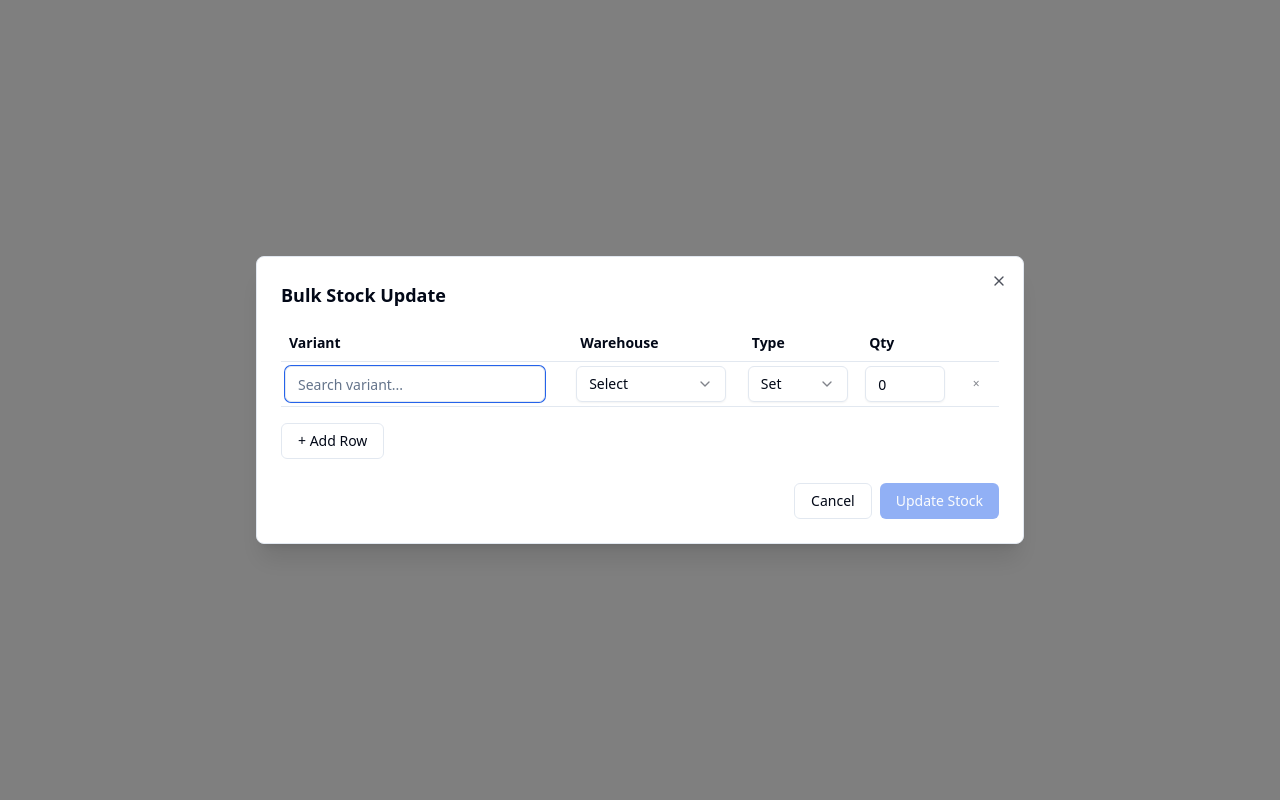
Test case: pressing Enter selects the first matching variant
Type "Blue" into the field with placeholder "Search variant...". click: (415, 384)
box: [285,366,545,402]
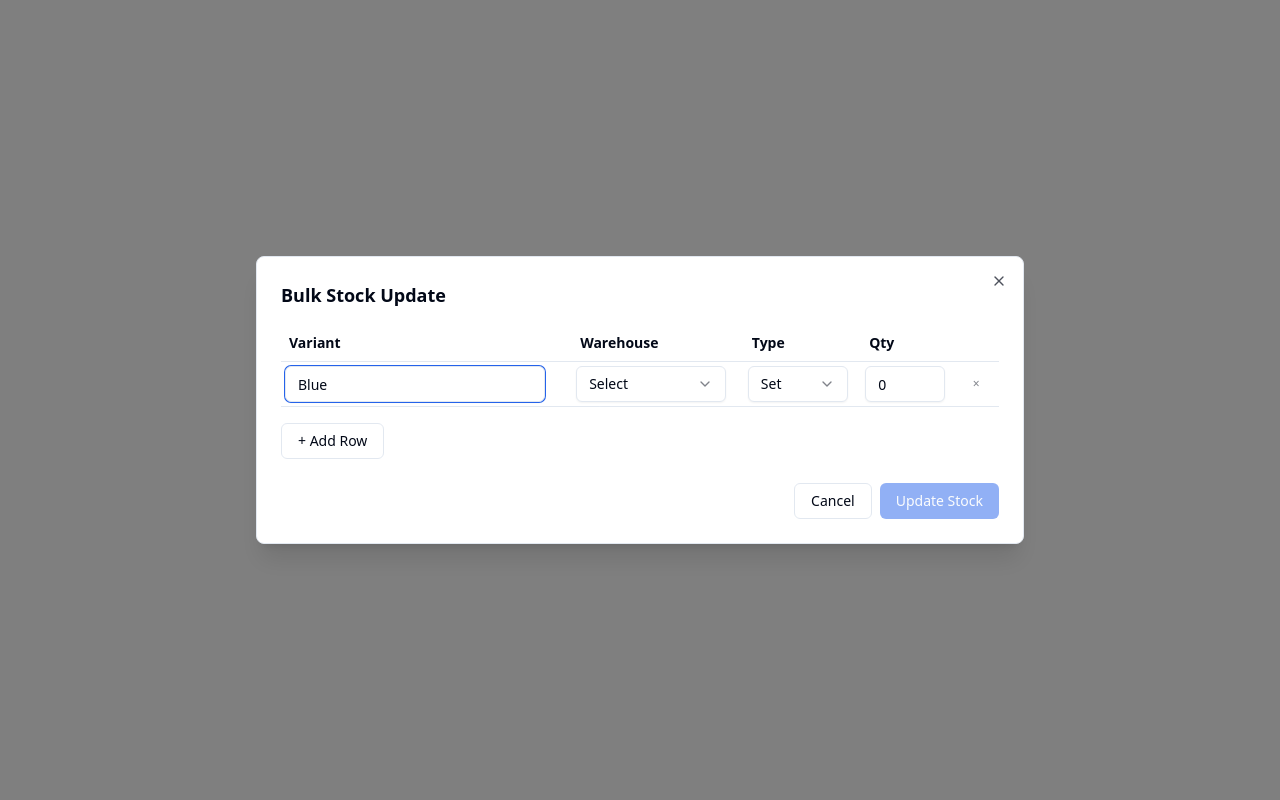
Press Enter
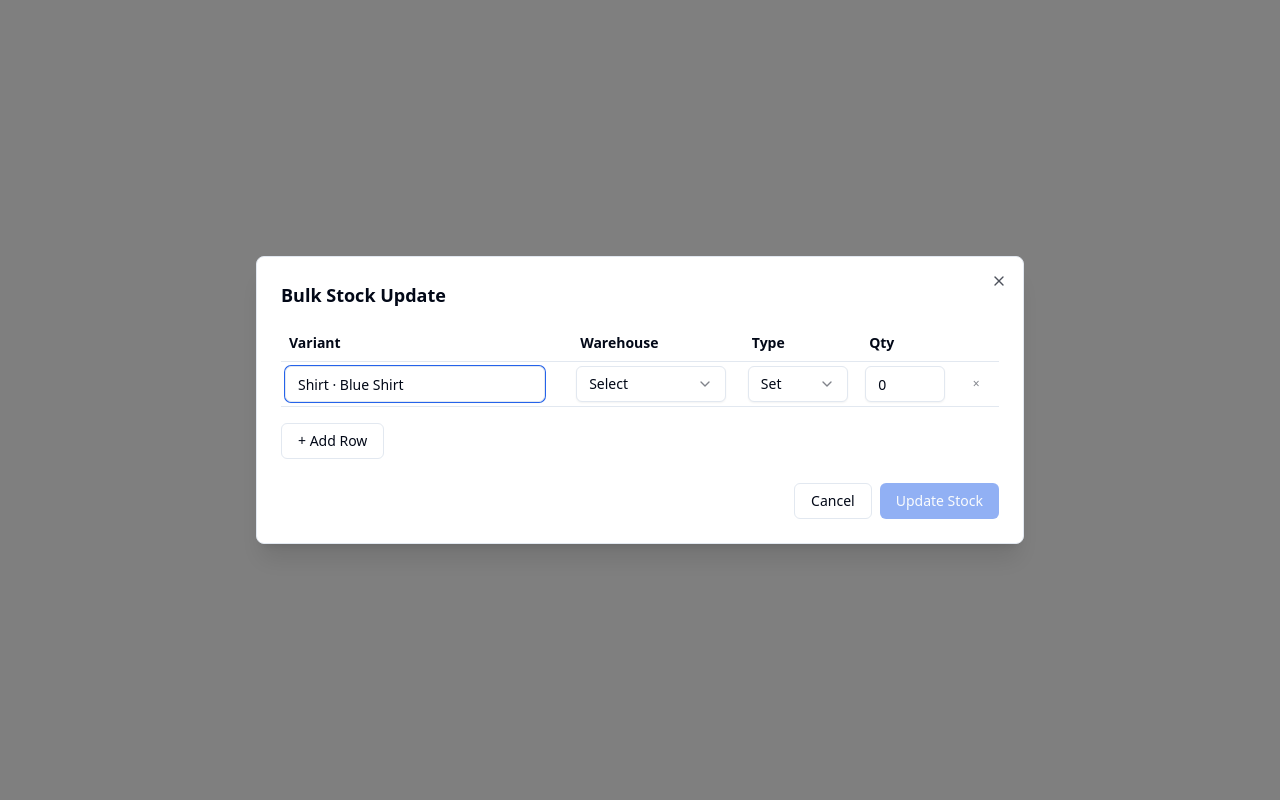
Check: the field with placeholder "Search variant..." holds "Shirt · Blue Shirt", box [285,366,545,402]
